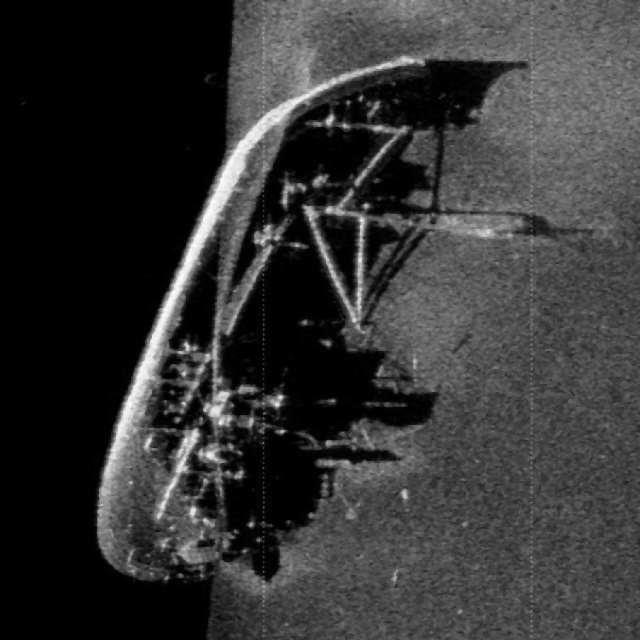Ship: (81, 51, 543, 589)
